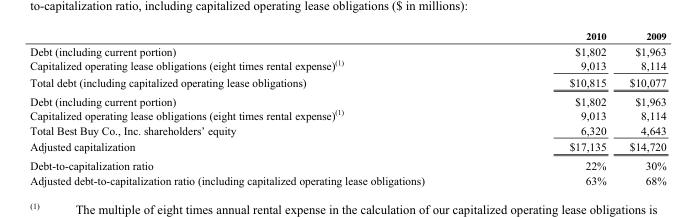table: (29, 28, 665, 186)
table column: (29, 28, 496, 186), (496, 28, 617, 186), (617, 28, 665, 186)
table column header: (29, 28, 665, 43)
table row: (29, 73, 665, 91), (29, 138, 665, 155), (29, 155, 665, 172), (29, 57, 665, 73), (29, 91, 665, 107), (29, 122, 665, 138), (29, 28, 665, 43), (29, 107, 665, 122), (29, 43, 665, 57), (29, 172, 665, 186)
